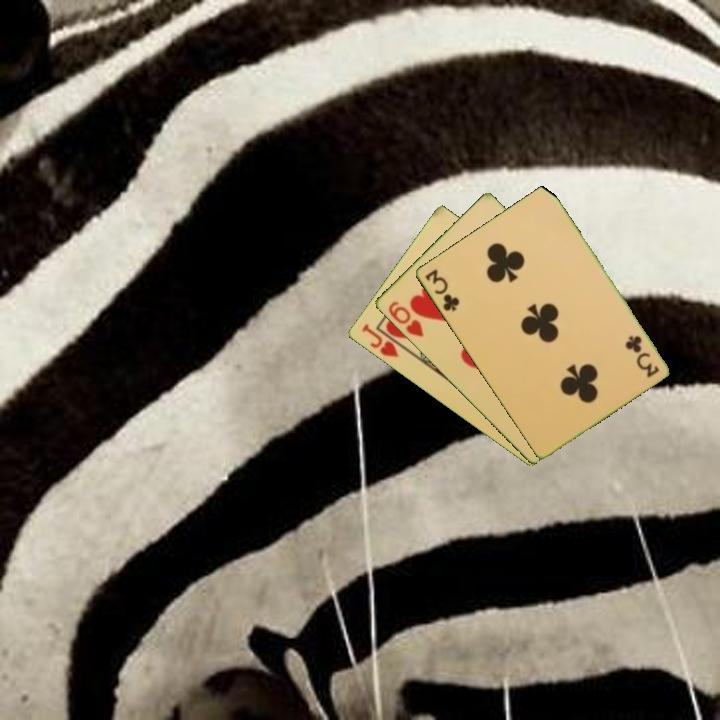3c: (421, 265, 462, 314), (623, 332, 662, 380)
6h: (384, 298, 426, 340)
Jh: (358, 320, 401, 361)
